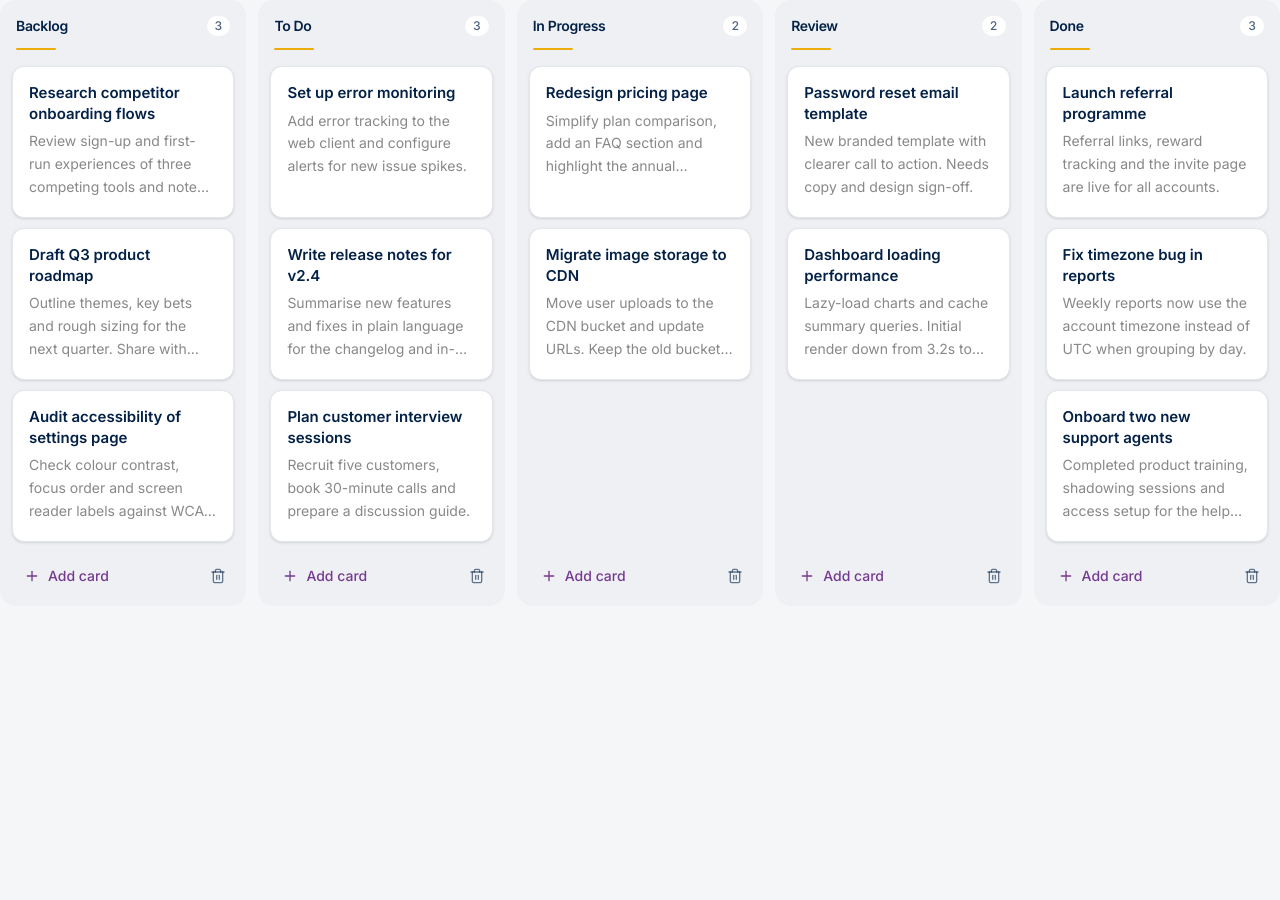
Test: Column › removes a column with cards after confirming
Click the button named "Remove column: Review" at (994, 576), box [978,560,1010,592]
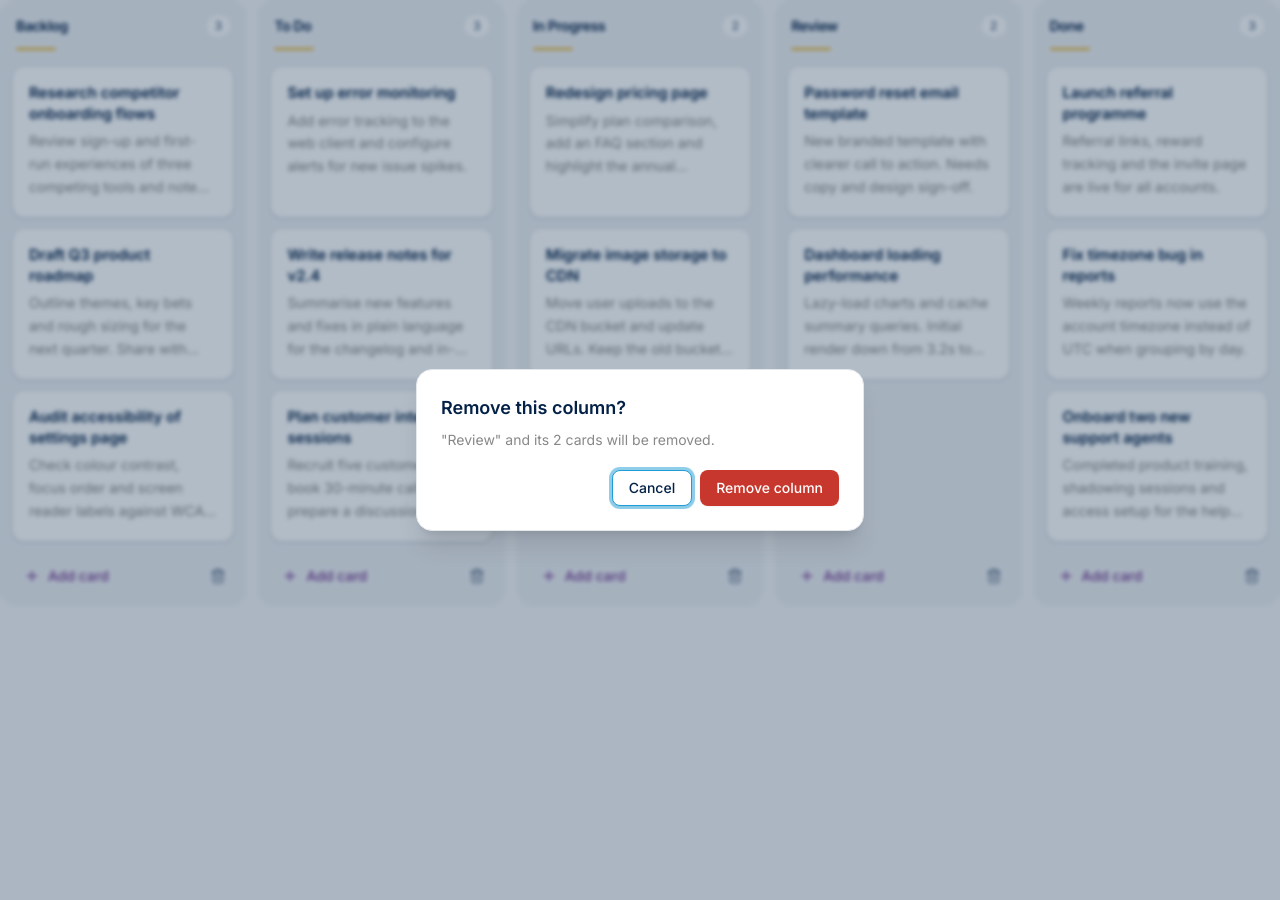
Expected: the dialog shows "\"Review\" and its 2 cards will be removed.", [441,431,715,448]
Click the button "Cancel" at (652, 488), box [612,470,692,506]
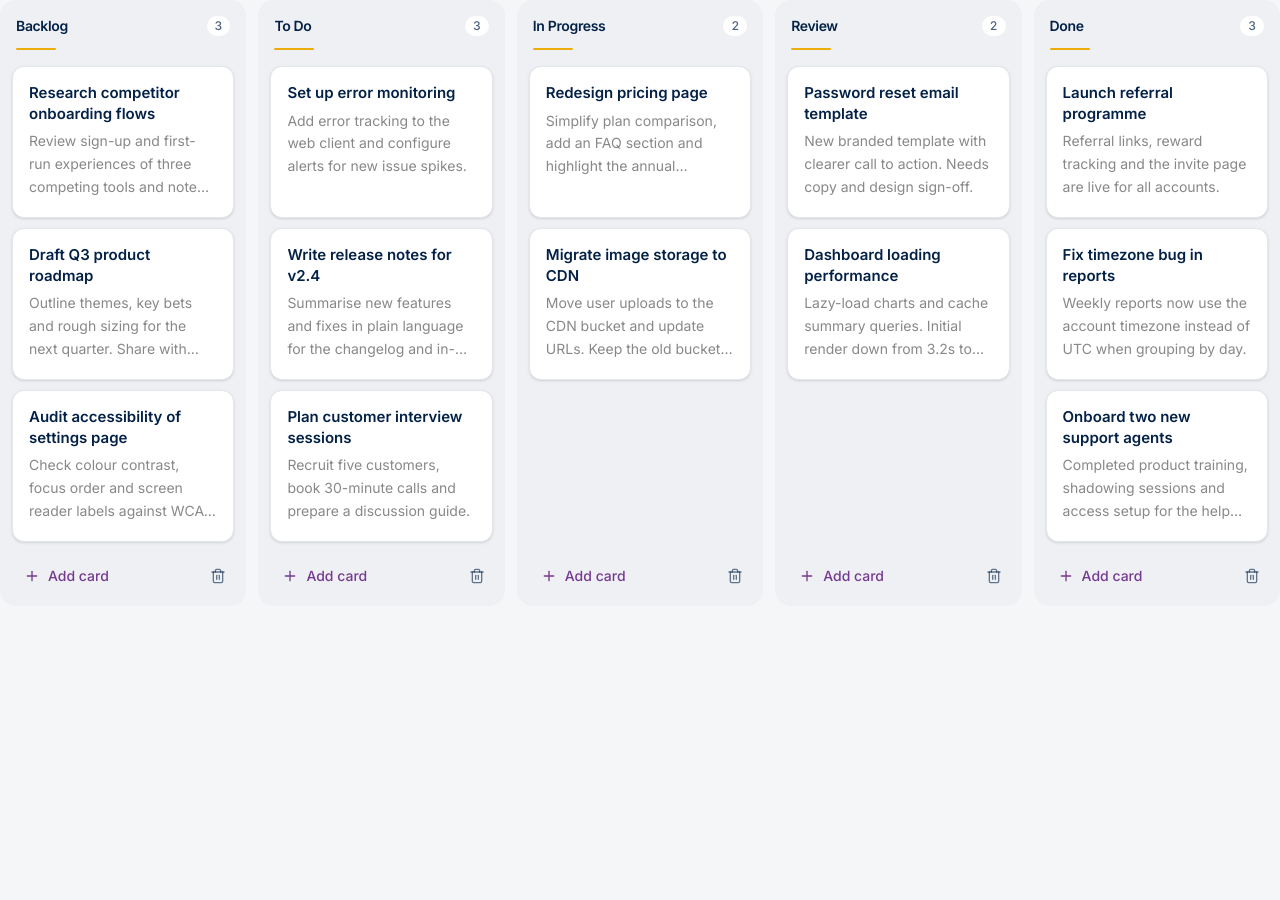
Click the button named "Remove column: Review" at (994, 576), box [978,560,1010,592]
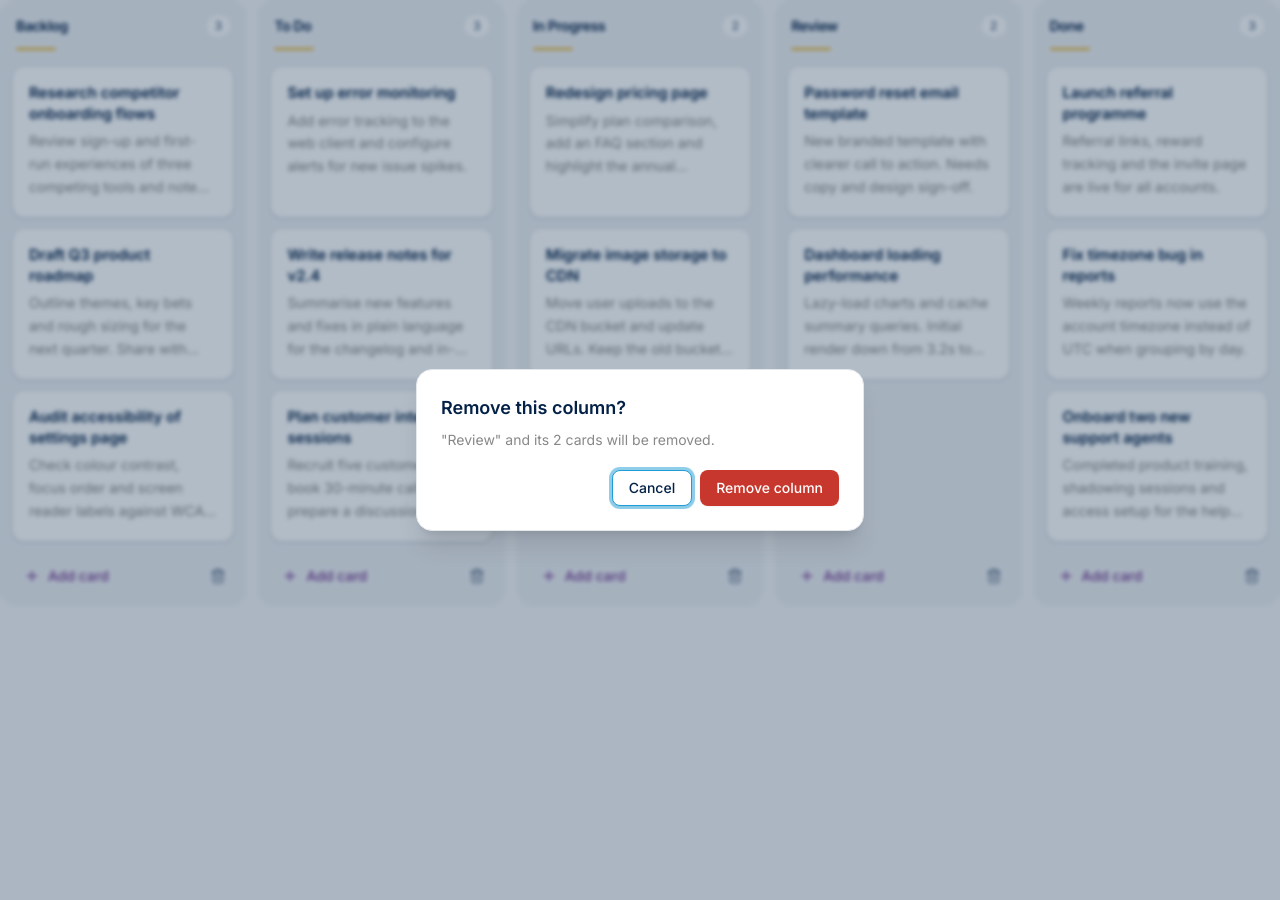
Click the button "Remove column" at (770, 488), box [700,470,839,506]
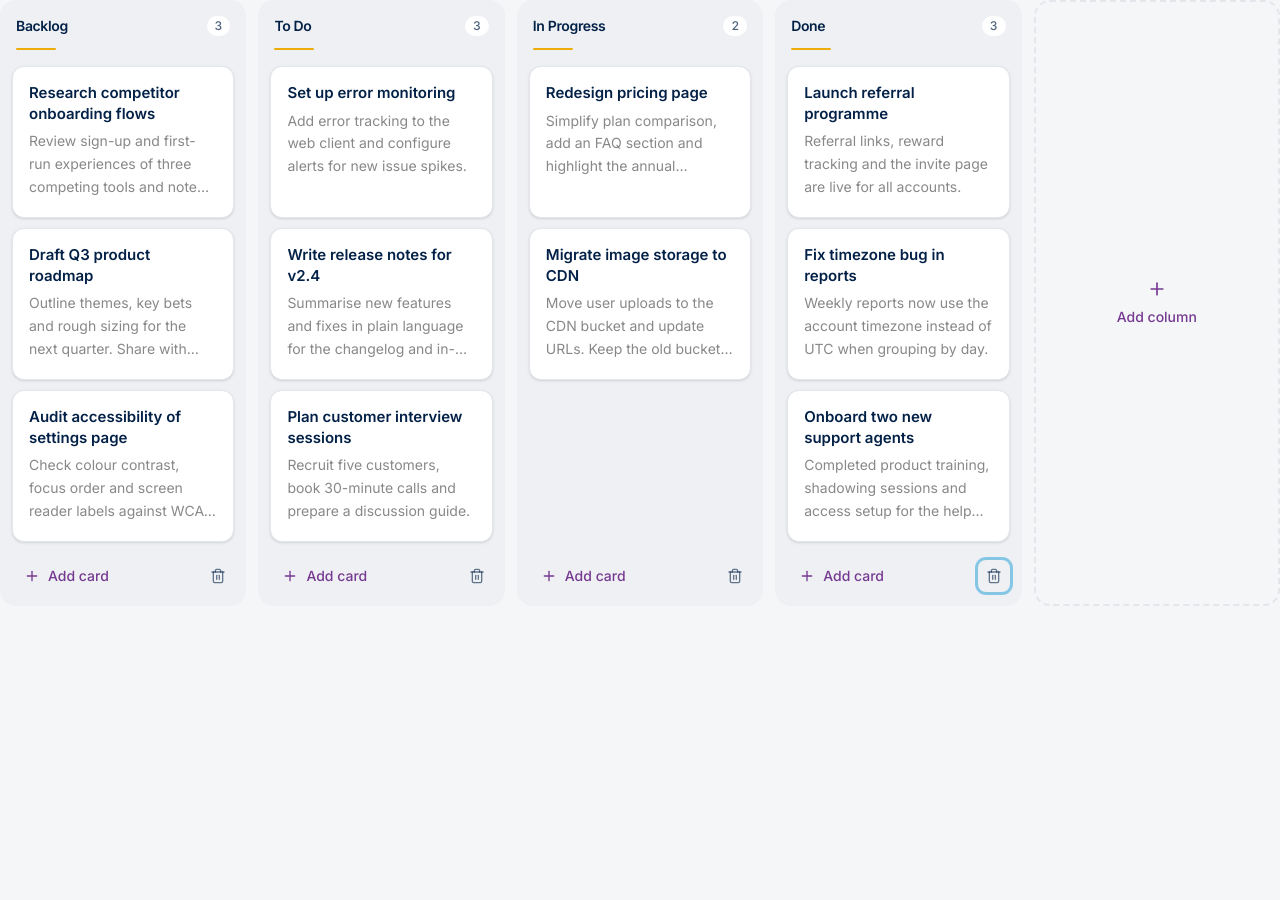
Expected: the button "Review" no longer shows "Review"
